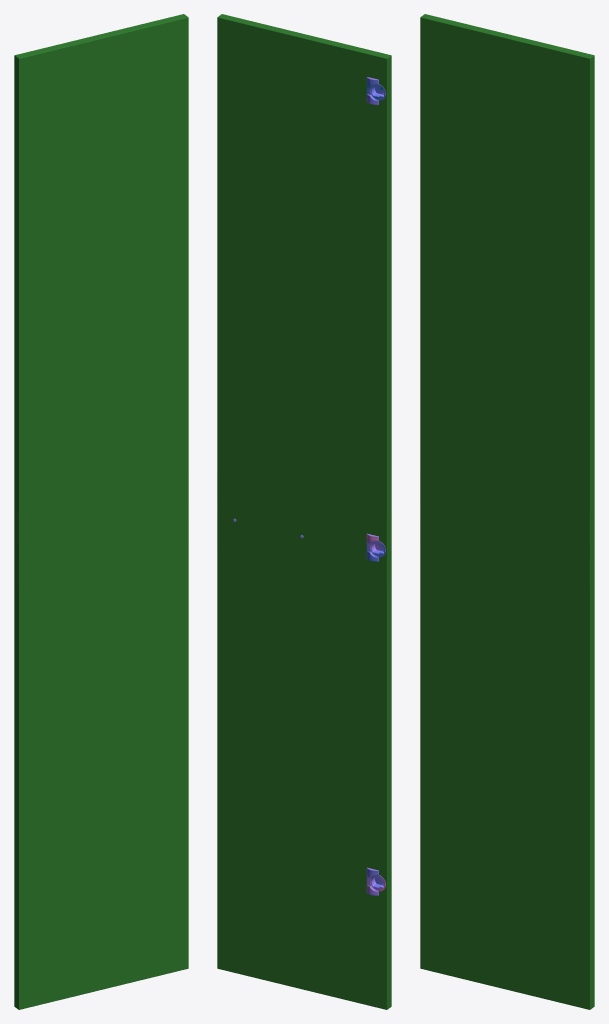
File: SM_Kitchen_02_Door.fbx
3 views of the same model, side by side, from view 1: azimuth 30°, elevation 25°; view 2: azimuth 150°, elevation 25°; view 3: azimuth 330°, elevation 25° (orthographic).
Visible parts, largest first — view 1: SM_Kitchen_02_Door; view 2: SM_Kitchen_02_Door; view 3: SM_Kitchen_02_Door.
Boxes of the visible parts, x1=… form: SM_Kitchen_02_Door: x1=14, y1=14, x2=188, y2=1009; SM_Kitchen_02_Door: x1=217, y1=14, x2=391, y2=1009; SM_Kitchen_02_Door: x1=420, y1=14, x2=594, y2=1009.
Size of the model in its own units: 39.7 by 212 by 2.49.
Materials: 2 (1 with a texture image).
